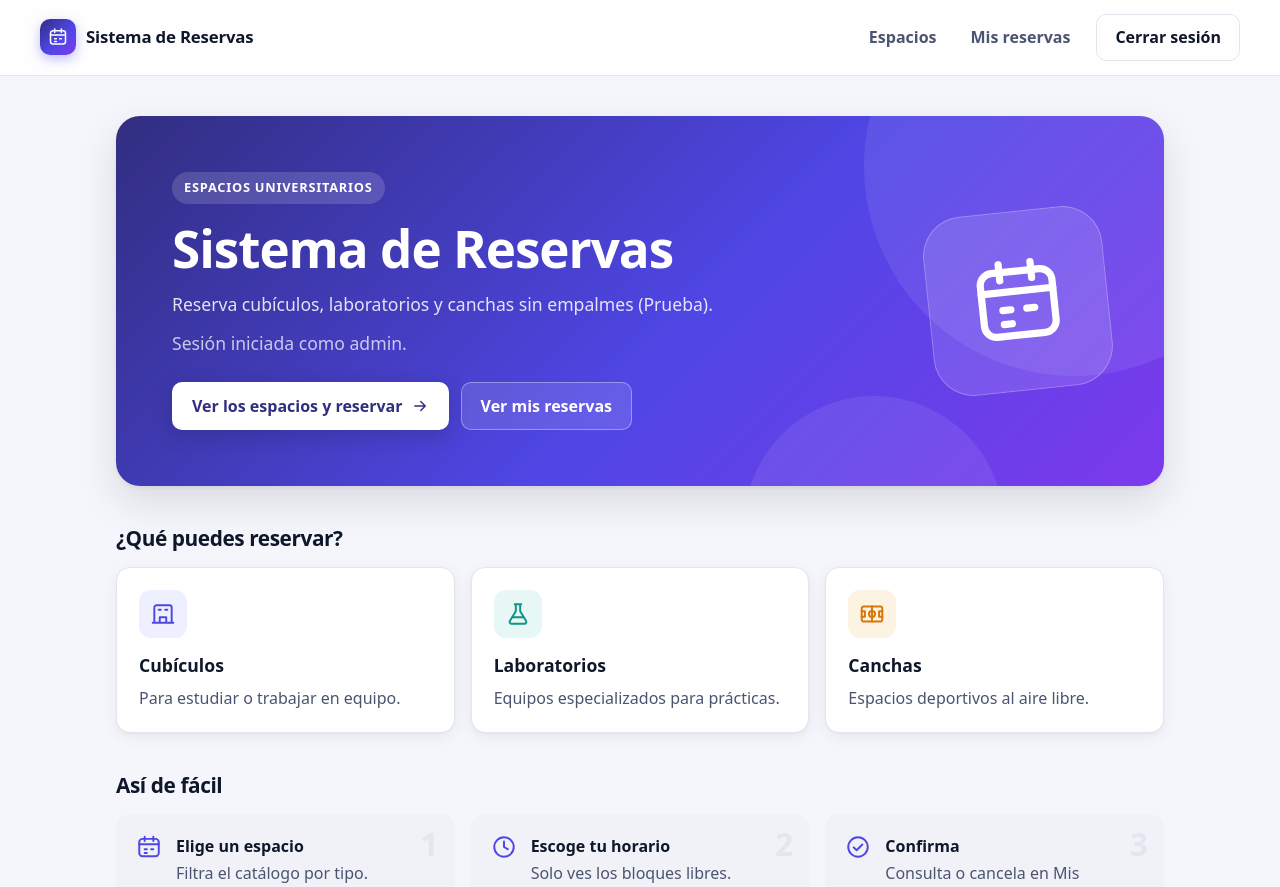
Test case: la navegación de sesión abre el historial y ADMIN solo ve sus reservas
The image size is (1280, 887).
Click the link "Mis reservas": (1020, 37) [970,26,1070,48]
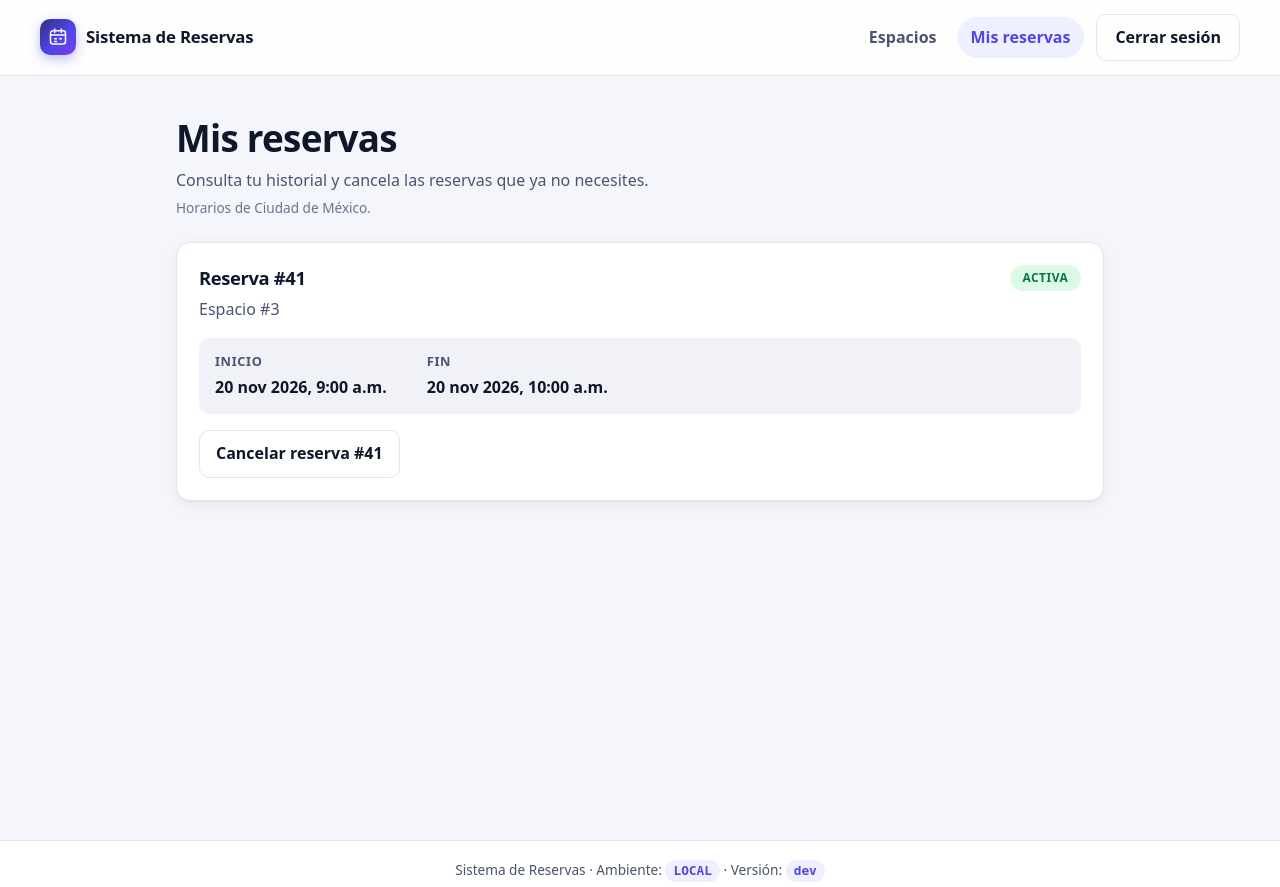
Expected: the heading "Mis reservas" is shown, [176,113,397,163]
Expected: the heading "Reserva #41" is shown, [199,267,306,289]
